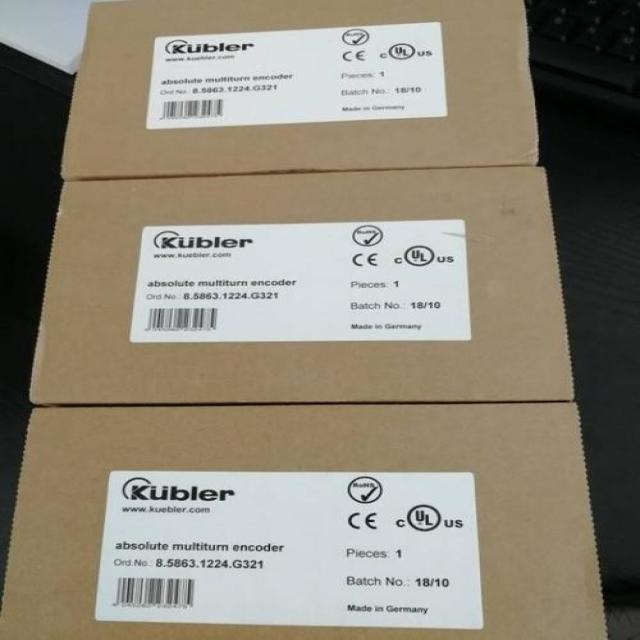box: (6, 403, 607, 640), (29, 168, 575, 404), (63, 0, 536, 178)
